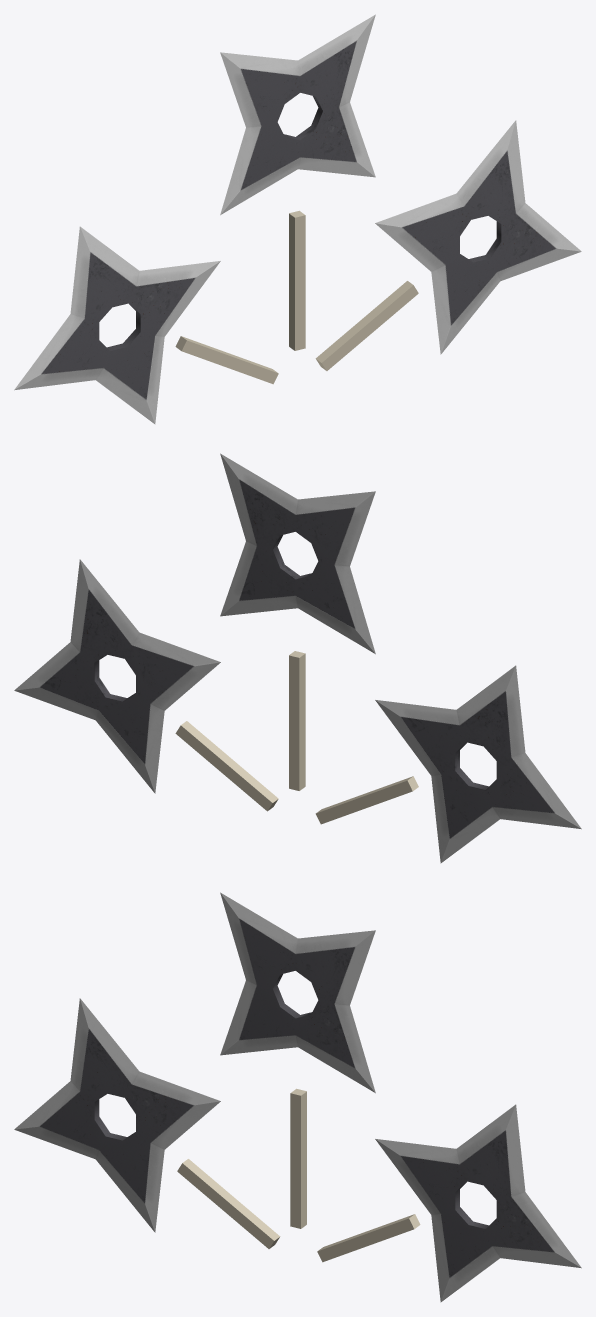
File: SM_Shuriken_Multiple.fbx
The picture shows the model from 3 angles, top to bottom: view 1: azimuth 30°, elevation 25°; view 2: azimuth 150°, elevation 25°; view 3: azimuth 330°, elevation 25°; orthographic projection.
Parts seen in each view (by area): view 1: Shuriken_Multiple; view 2: Shuriken_Multiple; view 3: Shuriken_Multiple.
Part boxes in pixels (x1,y1,x2,y2): Shuriken_Multiple: [14, 14, 581, 424]; Shuriken_Multiple: [14, 453, 581, 863]; Shuriken_Multiple: [14, 892, 581, 1302].
Bounding box in the file's own units: 268 × 161 × 5.06.
